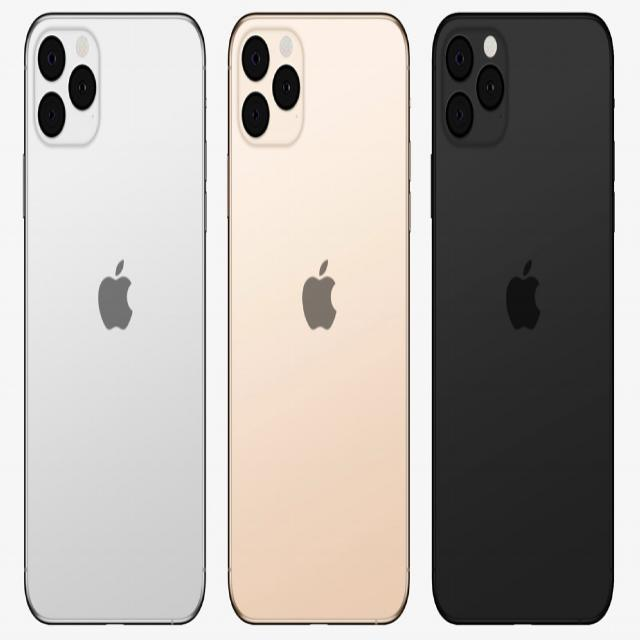phone: (226, 11, 412, 626), (430, 12, 616, 626), (22, 9, 206, 626)
